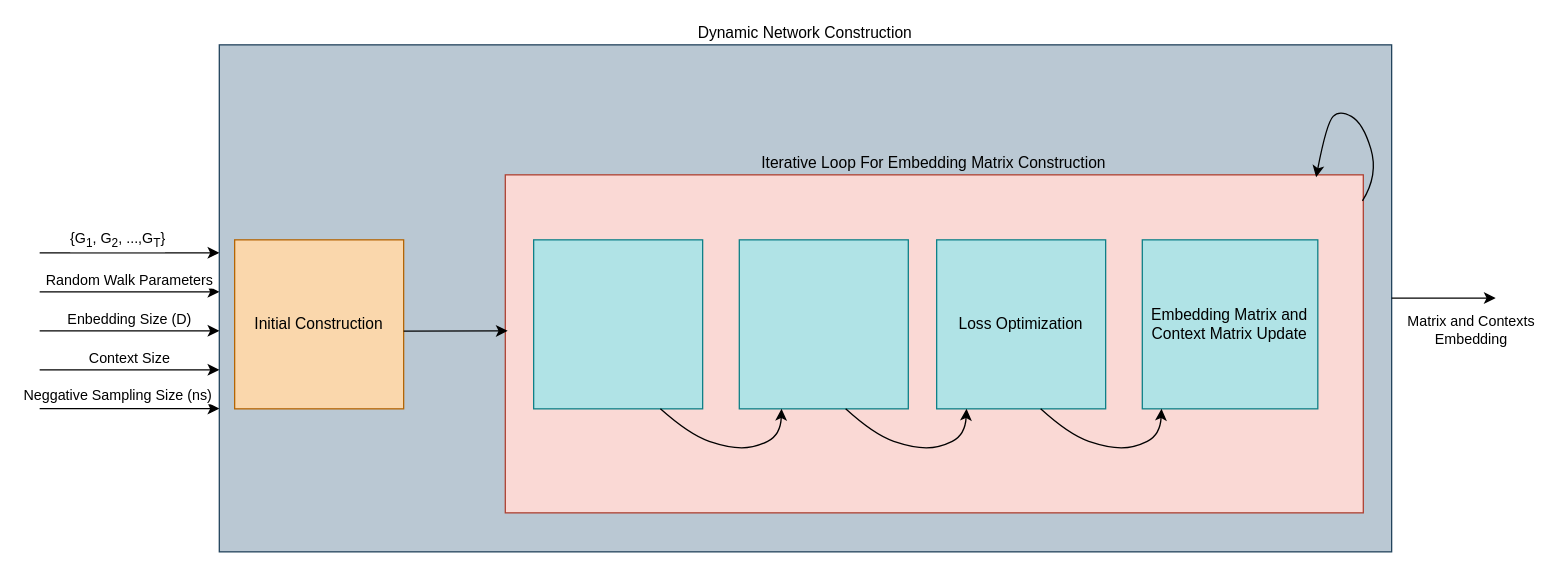
Image size: 1556x579. Some labels were removed from this diagram. The shapes that lost their labels are listed below. From the top down, each one's centre as x and y in pixels, then its label:
[617,324]: Random Walks
[823,324]: Negative Sampling Calculation
